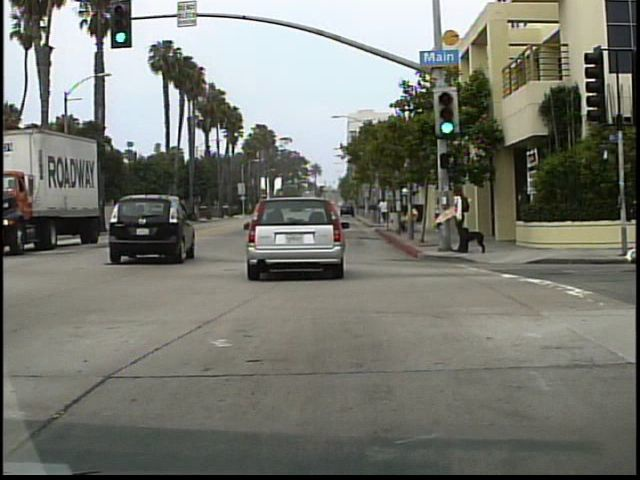person: (452, 184, 474, 251), (380, 195, 391, 227)
